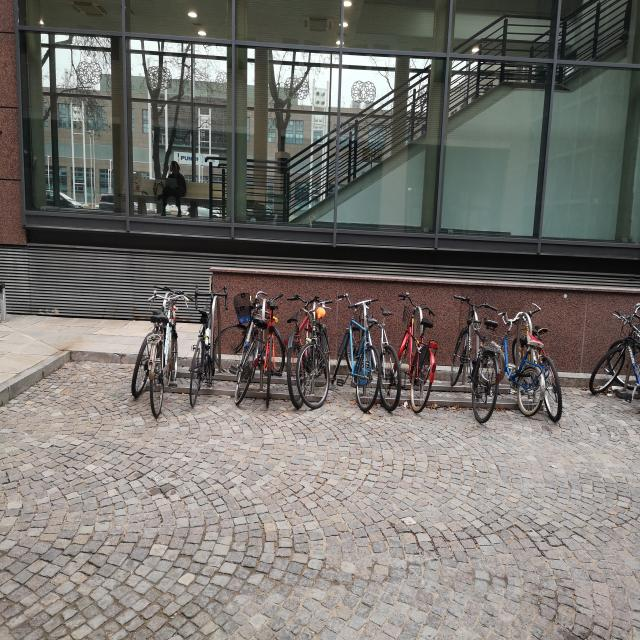Bicycle: (145, 274, 197, 424), (454, 281, 496, 456), (589, 305, 640, 440), (293, 276, 335, 421), (186, 276, 235, 397), (503, 292, 543, 438), (365, 281, 402, 430), (256, 268, 294, 413), (398, 290, 444, 408), (528, 296, 561, 435), (344, 285, 374, 424), (232, 257, 256, 415), (124, 277, 147, 404)
